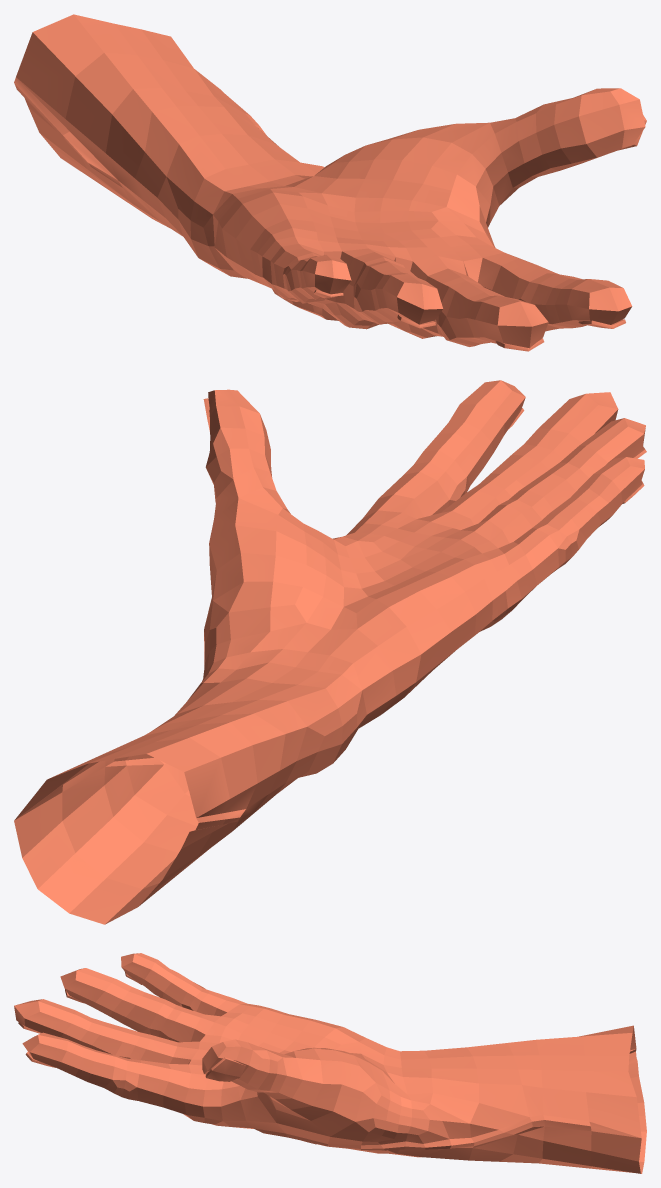
The model's file is 5_8_HandPolygonalLeftFront.obj.
The picture shows the model from 3 angles, top to bottom: view 1: azimuth 30°, elevation 25°; view 2: azimuth 150°, elevation 25°; view 3: azimuth 270°, elevation 25°; orthographic projection. The views are drawn at different scales.
Visible parts, largest first — view 1: polySurface920.006; view 2: polySurface920.006; view 3: polySurface920.006.
Boxes of the visible parts, x1,y1,x2,y2 form: polySurface920.006: (14,14,646,351); polySurface920.006: (14,380,646,924); polySurface920.006: (14,953,646,1173).
Bounding box in the file's own units: 0.0873 × 0.0587 × 0.1856.
